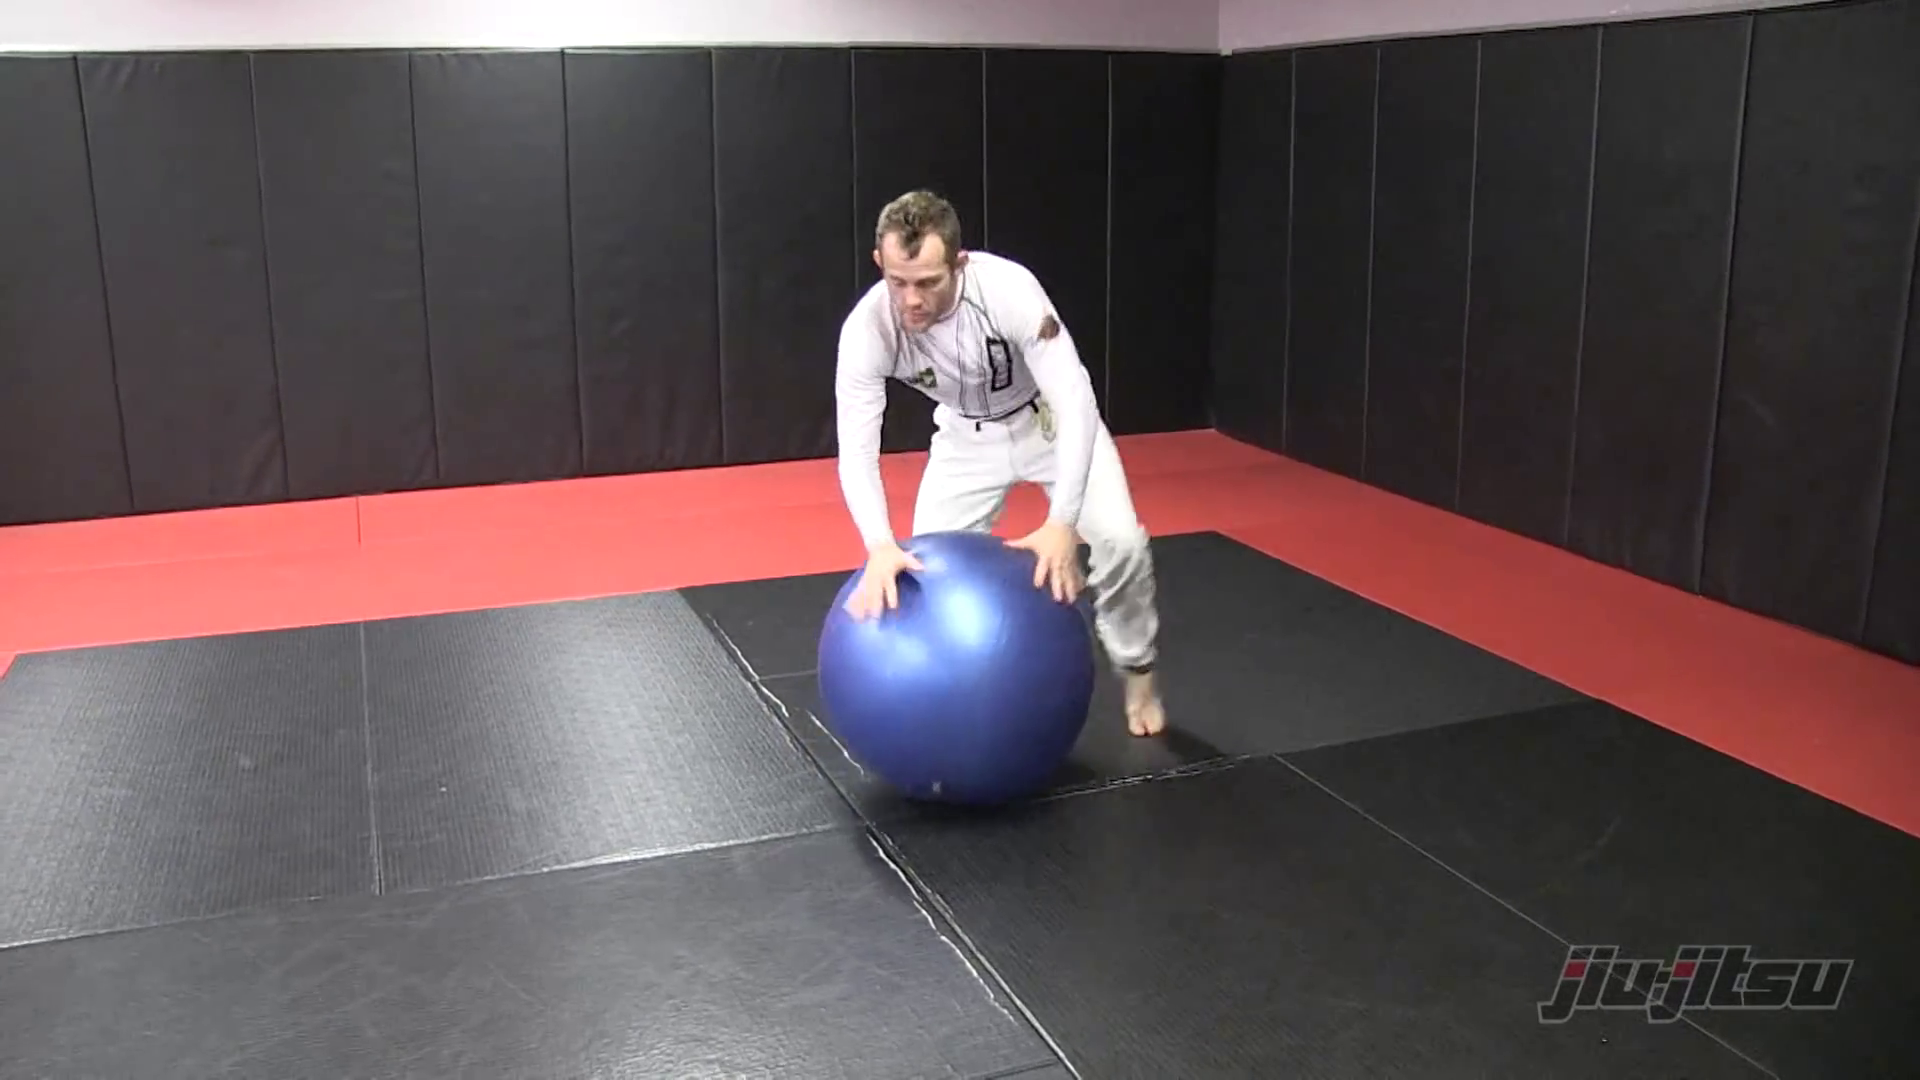yogaball: (796, 522, 1122, 829)
